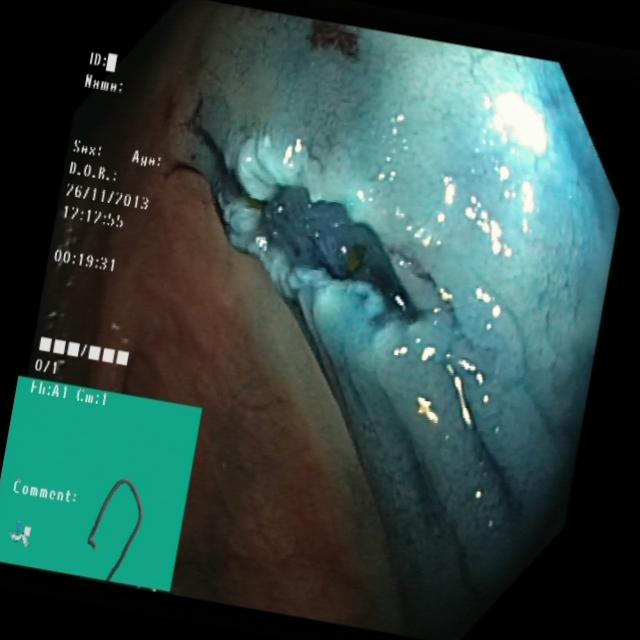dyed-resection-margins: (149, 95, 433, 381), (284, 6, 380, 71)
